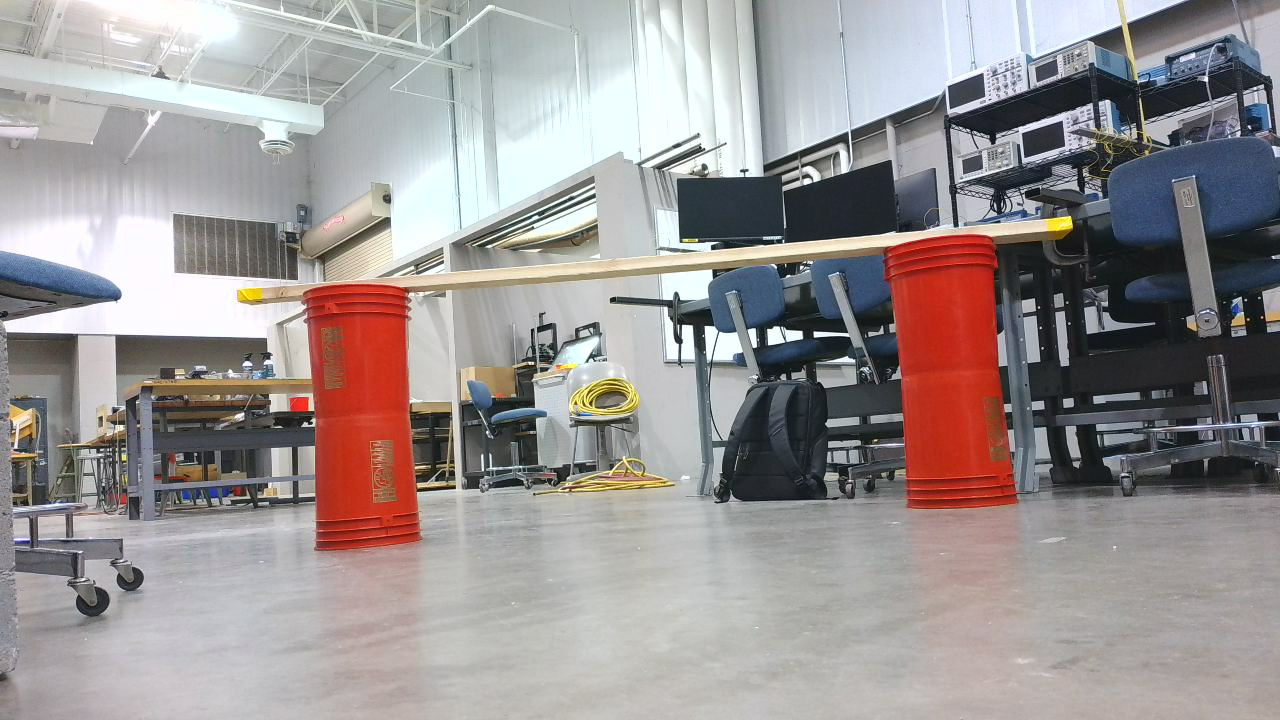red_bucketArch: (306, 228, 1030, 560)
